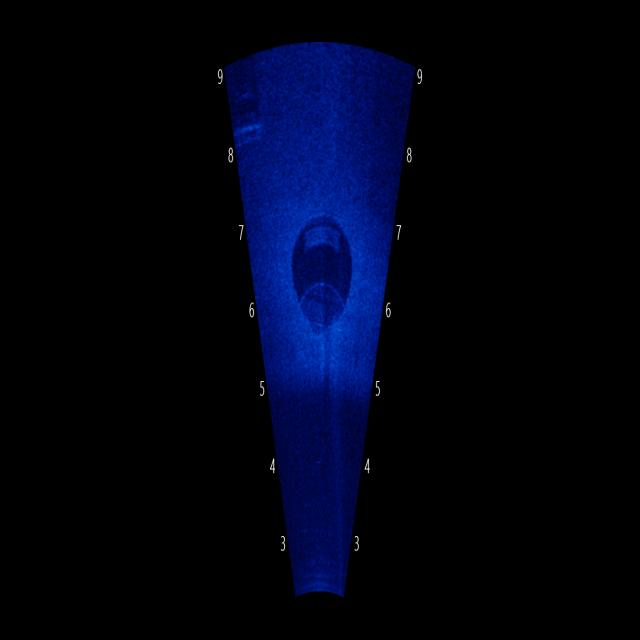circle: (283, 181, 362, 345)
